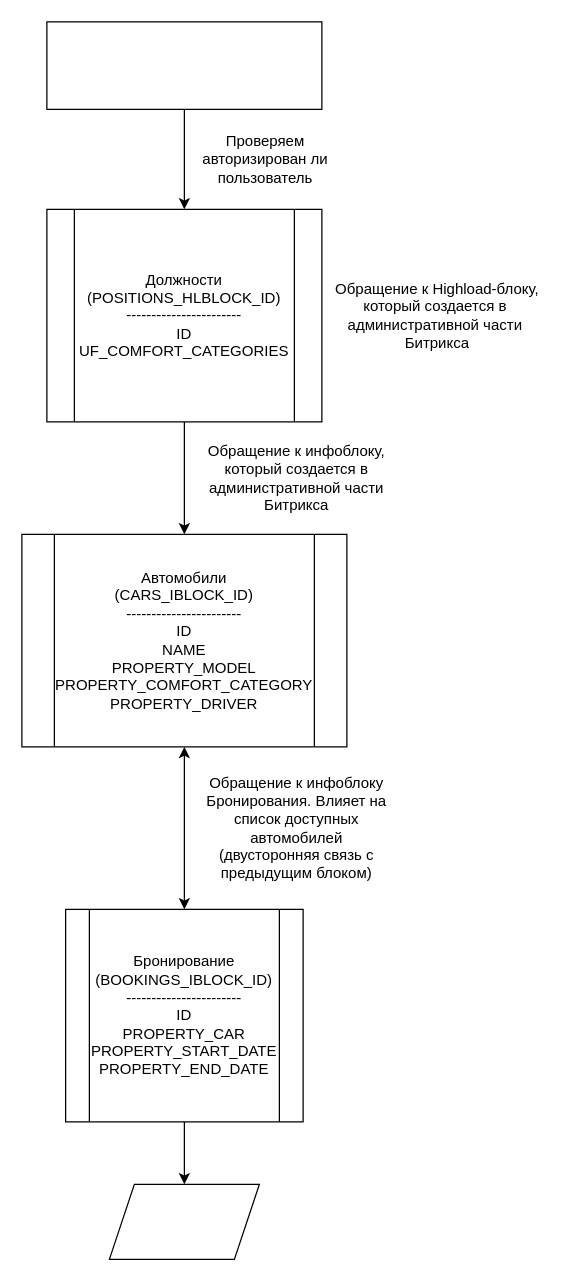
The diagram is 563 pixels wide and 1281 high, and some of its shapes have lost their labels. The shapes that lost their labels are listed below. From the top down, each one's box as (x1, y1, x2, y2) in pixels, then its label:
(46, 21, 322, 109): Компонент "Бронирование автомобилей для сотрудников"
(108, 1183, 259, 1259): Вывод
